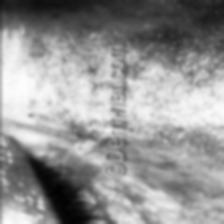Potentially Malignant Skin Tumors: (70, 132, 106, 158)
